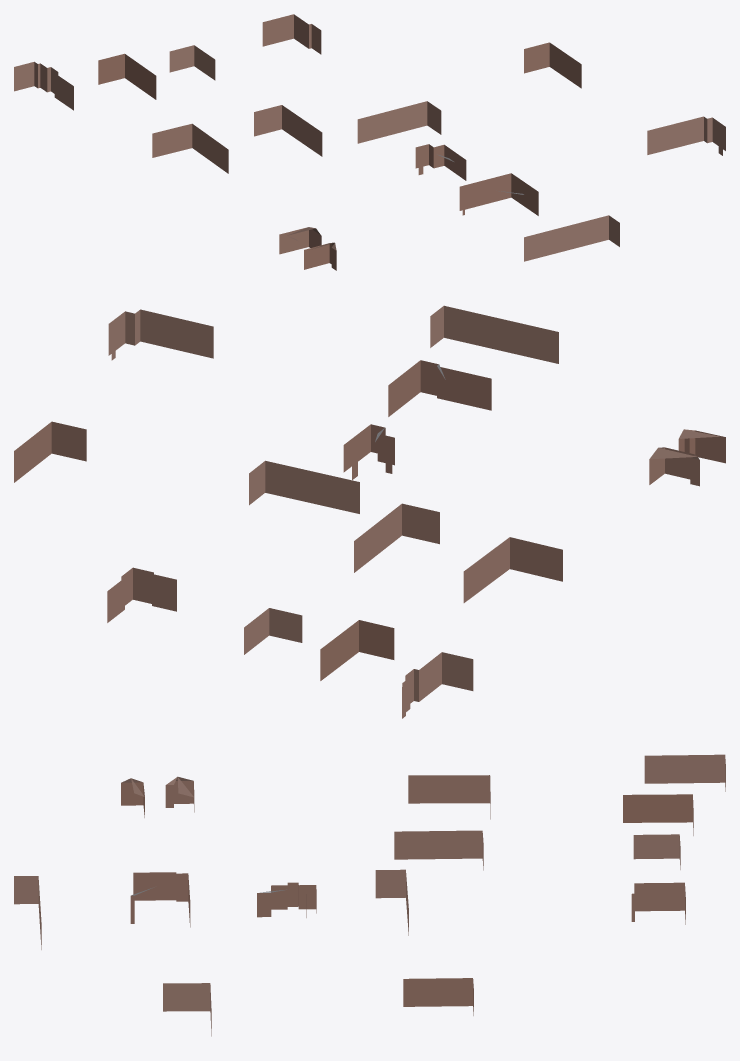
Rendered from c_1635_17837_buildings_residential.glb.
3 renders of one model, top to bottom at view 1: azimuth 30°, elevation 25°; view 2: azimuth 150°, elevation 25°; view 3: azimuth 270°, elevation 25°, orthographic. The views are drawn at different scales.
Visible parts, largest first — view 1: geometry_0; view 2: geometry_0; view 3: geometry_0.
Boxes of the visible parts, x1=… form: geometry_0: x1=14, y1=14, x2=725, y2=270; geometry_0: x1=14, y1=305, x2=725, y2=718; geometry_0: x1=14, y1=754, x2=725, y2=1036.
Bounding box in the file's own units: 222 × 12.86 × 253.
